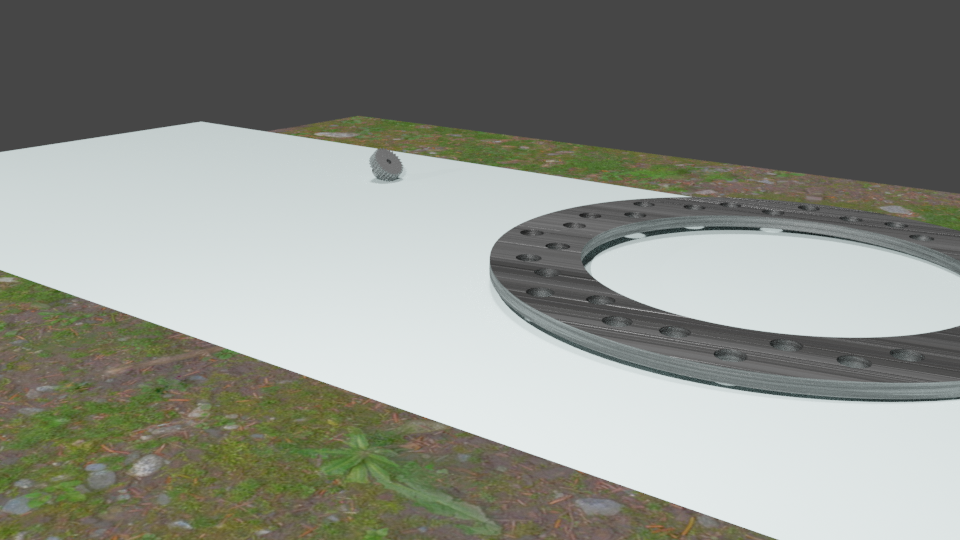yamaha_letters: (393, 178, 601, 236)
